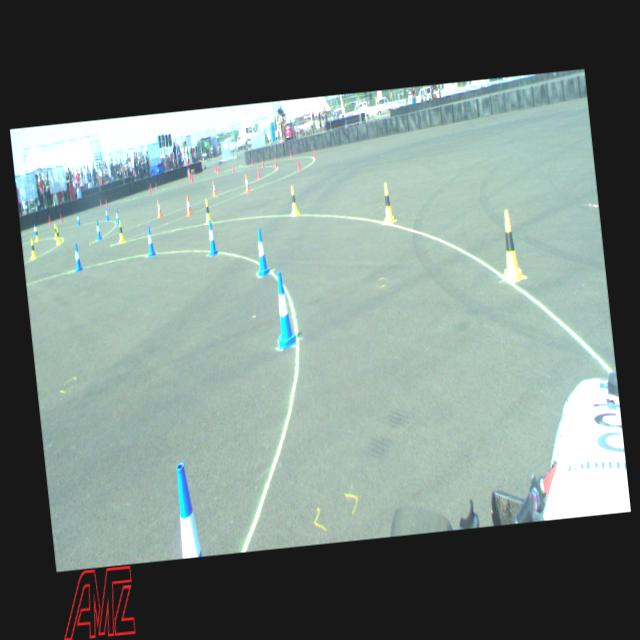blue_cone: (172, 462, 202, 558), (271, 270, 296, 347), (253, 227, 270, 275), (205, 218, 218, 256), (145, 225, 155, 256), (73, 242, 82, 271), (95, 220, 102, 239), (114, 208, 119, 225), (104, 207, 109, 220), (76, 212, 80, 225), (33, 224, 36, 236)
orange_cone: (185, 195, 192, 215), (210, 180, 217, 196), (244, 174, 250, 192), (156, 198, 162, 216)
unknown_cone: (296, 158, 300, 172), (256, 166, 260, 178), (274, 157, 278, 169), (312, 147, 316, 159), (104, 198, 108, 207), (154, 182, 158, 190), (59, 212, 62, 222), (48, 214, 51, 223), (250, 157, 253, 166), (99, 198, 102, 206), (190, 174, 193, 182), (214, 165, 217, 173), (231, 164, 234, 172), (289, 150, 292, 158), (261, 158, 263, 167), (148, 186, 150, 194), (150, 182, 152, 190), (189, 173, 191, 181), (213, 163, 215, 170), (216, 166, 218, 173)
yellow_cone: (496, 208, 524, 281), (380, 182, 394, 222), (288, 184, 298, 215), (204, 198, 212, 223), (116, 220, 125, 242), (29, 238, 36, 258), (54, 226, 60, 244), (34, 227, 39, 240), (53, 223, 57, 239)
